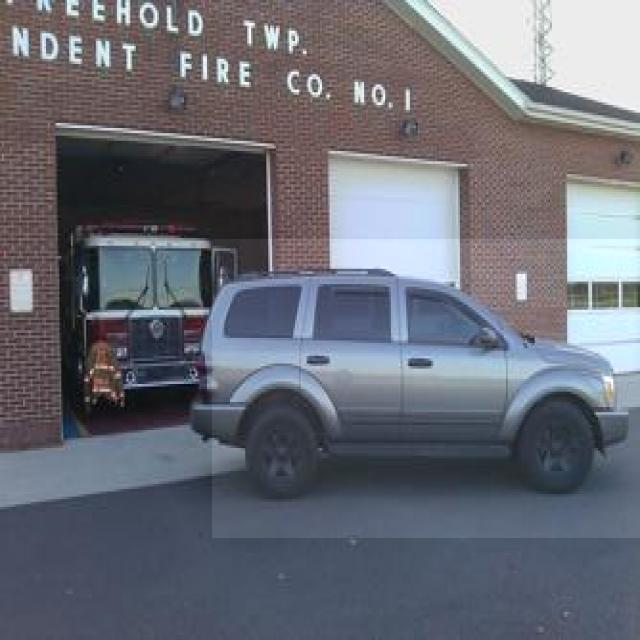Car: (212, 239, 640, 538)
